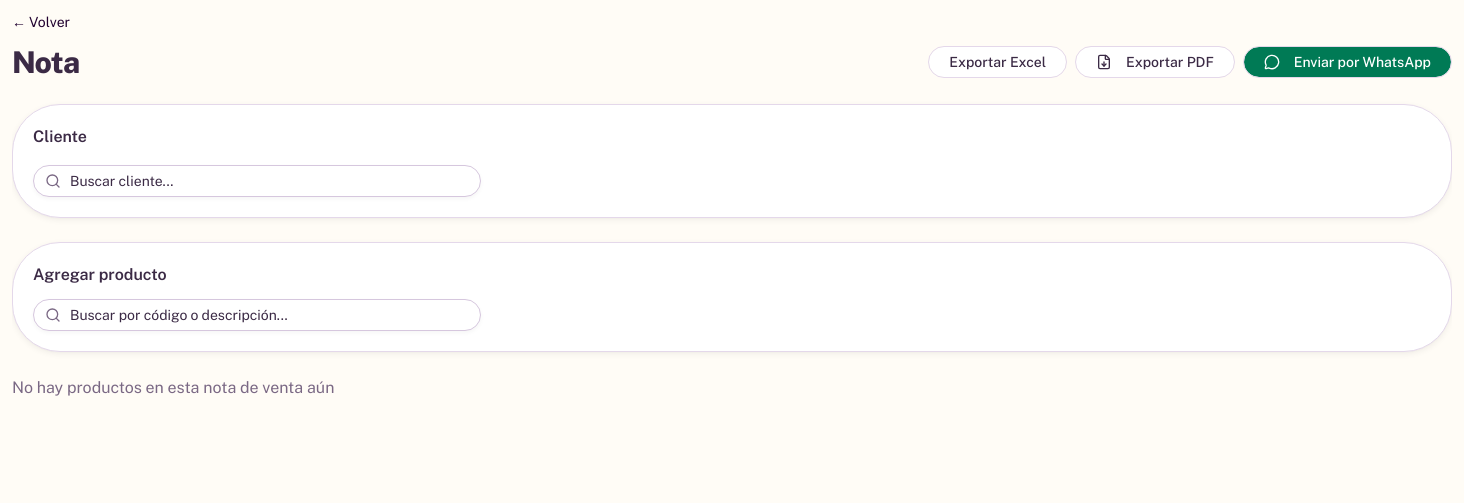
Test case: alta rápida desde el buscador › el resultado muestra precio detalle y "Mayor: $X"; no muestra "cj"
Expected: the text "No hay productos en esta nota de venta aún" is shown, [12, 378, 334, 397]
Type "pro" into the field with placeholder "Buscar por código o descripción..." at (257, 315), box [33, 299, 481, 331]
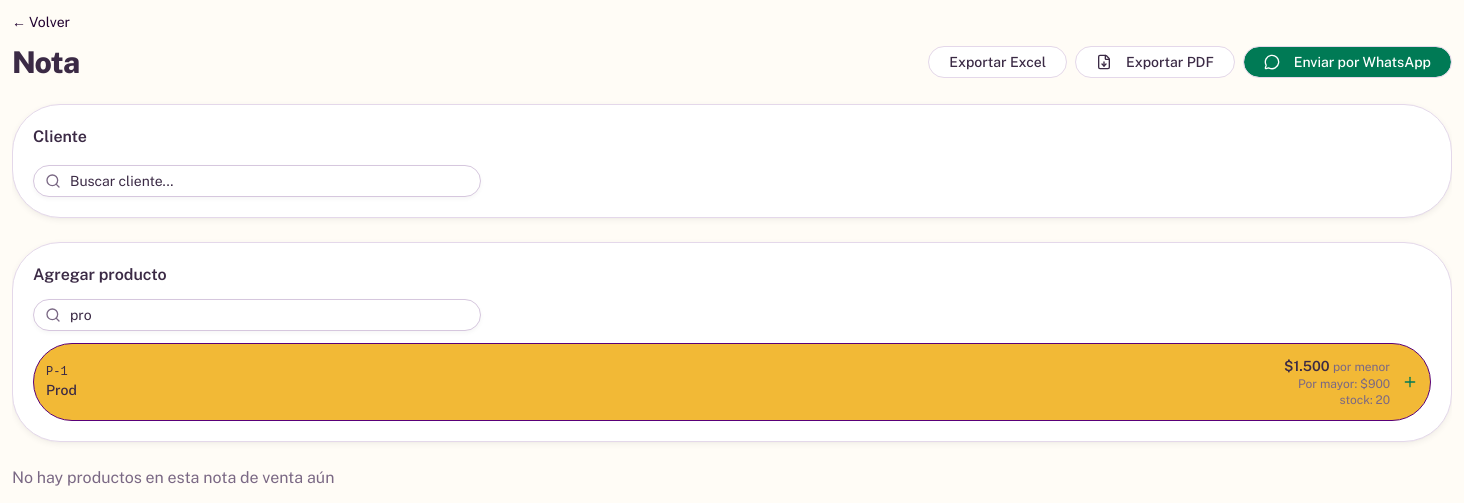
Expected: the text "Prod" is shown, [46, 382, 77, 398]
Expected: the text "Por mayor: $900" is shown, [1284, 376, 1390, 392]
